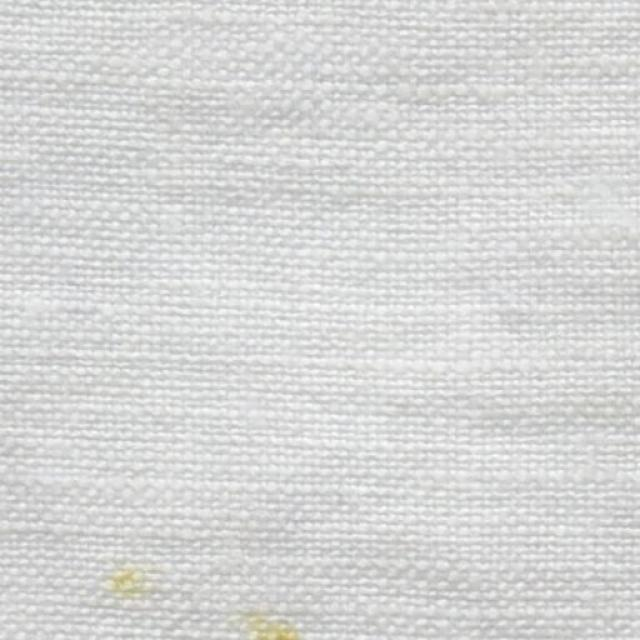Stain: (241, 615, 301, 640), (108, 568, 151, 601)
